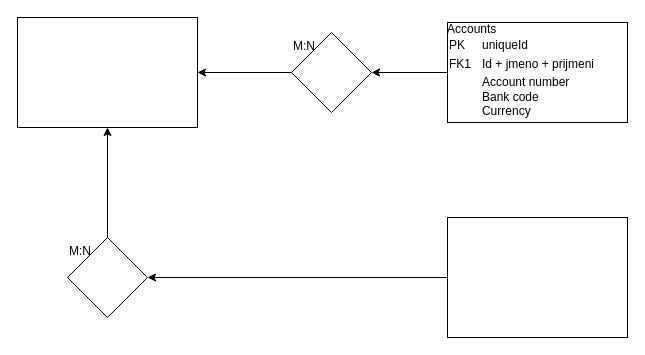
This 645x355 diagram has some shape labels left out. Each missing label, with the centre of its shape:
"Deti PK uniqueId FK1 Id + jmeno + prijmeni Jmeno Prijmeni Rodic" belongs at point (107, 72).
"Platby PK uniqueId FK1 Id + jmeno + prijmeni amount date zaplaceno" belongs at point (537, 277).
